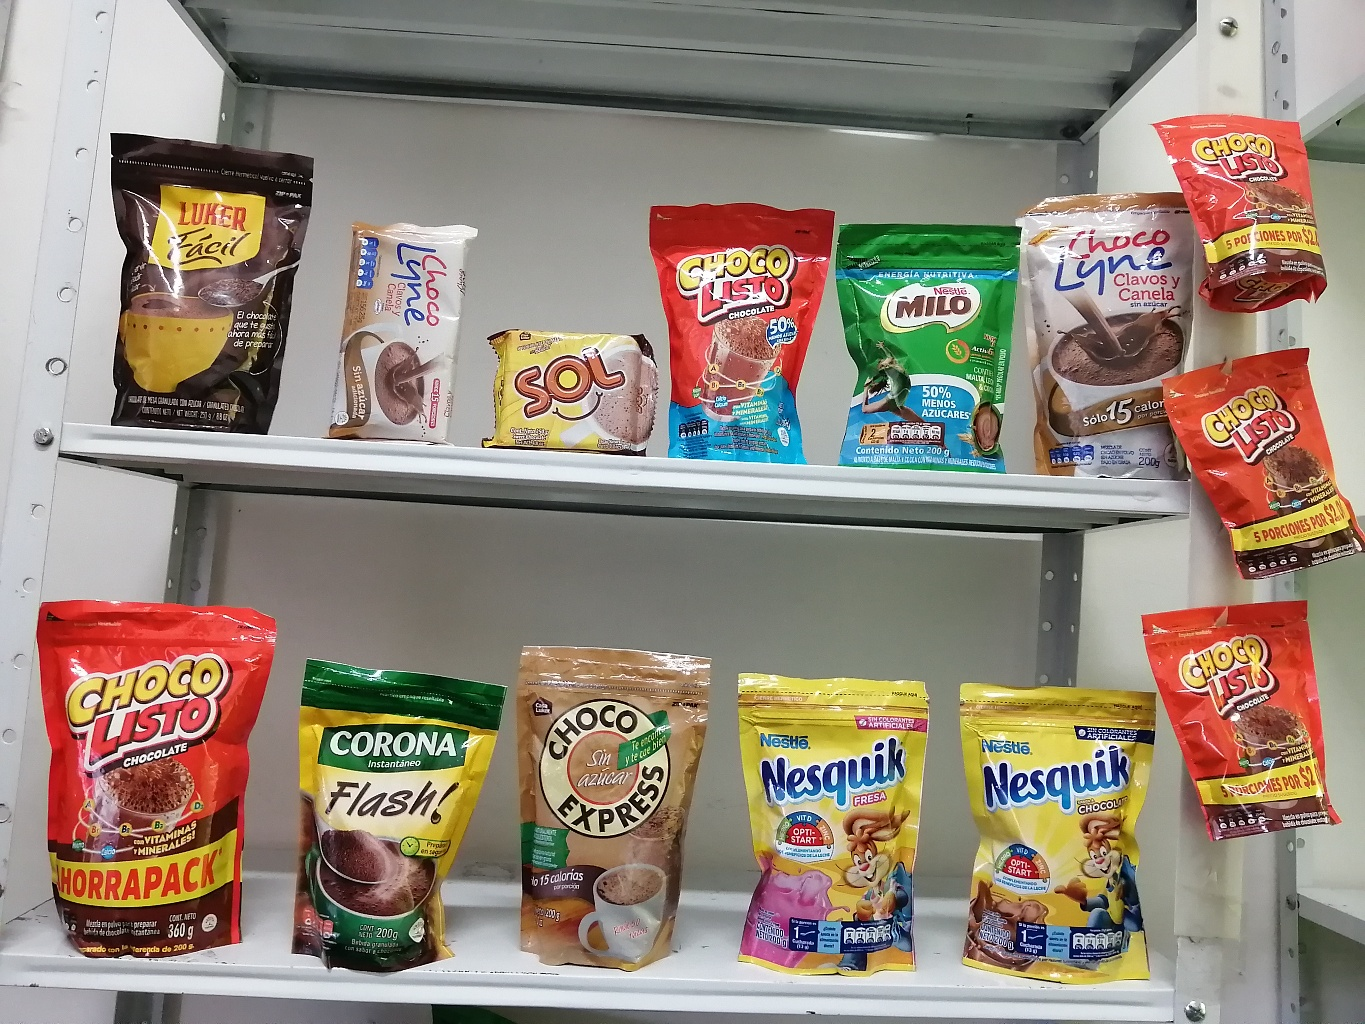COL0170103DYP36000: (16, 583, 264, 973)
COL0170104DYP20000: (636, 183, 833, 478)
COL0170205DYP20000: (816, 204, 1023, 481)
COL0170303DYP20000: (942, 666, 1180, 1001)
COL0170305DYP20000: (716, 657, 948, 987)
